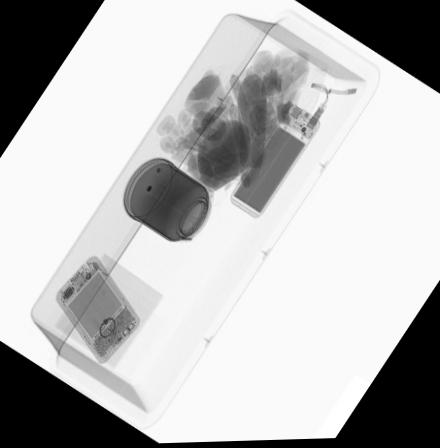Powerbank: (226, 101, 323, 222)
